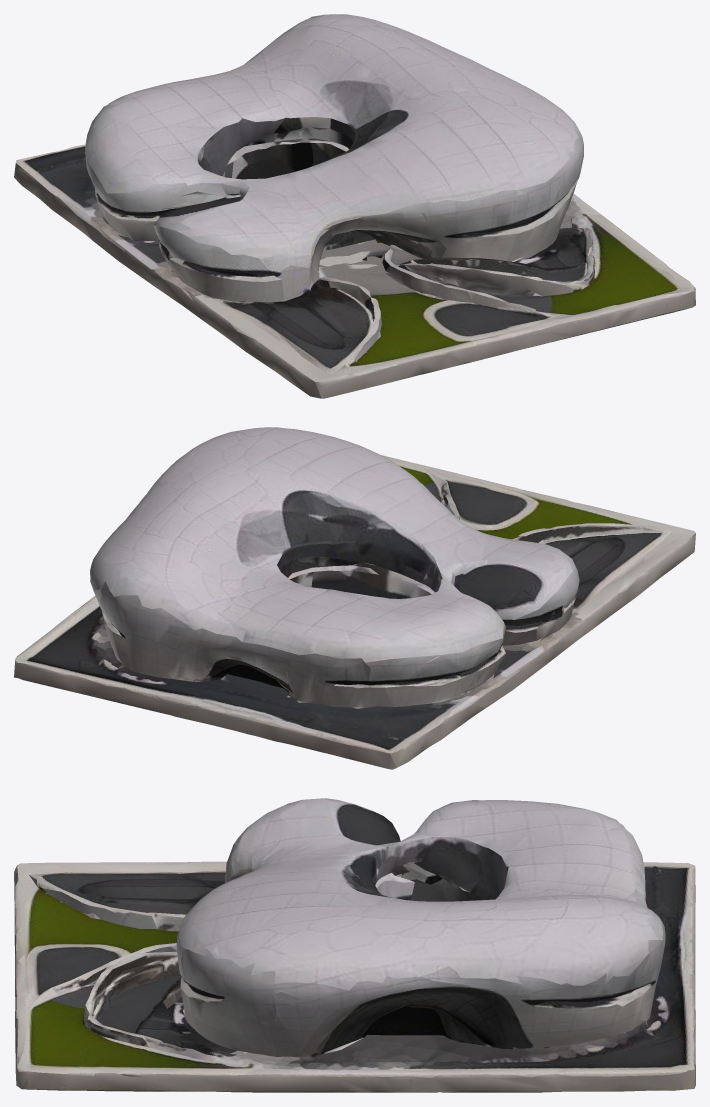
File: dongdaemun-design-plaza.glb
The picture shows the model from 3 angles, top to bottom: view 1: azimuth 30°, elevation 25°; view 2: azimuth 150°, elevation 25°; view 3: azimuth 270°, elevation 25°; orthographic projection. The views are drawn at different scales.
Parts seen in each view (by area): view 1: logan-textured.obj; view 2: logan-textured.obj; view 3: logan-textured.obj.
Boxes of the visible parts, bbox=[...] form: logan-textured.obj: bbox=[14, 14, 695, 398]; logan-textured.obj: bbox=[14, 427, 695, 769]; logan-textured.obj: bbox=[14, 798, 695, 1092].
Bounding box in the file's own units: 0.7571 × 0.2223 × 1.
Materials: 1 (1 with a texture image).
